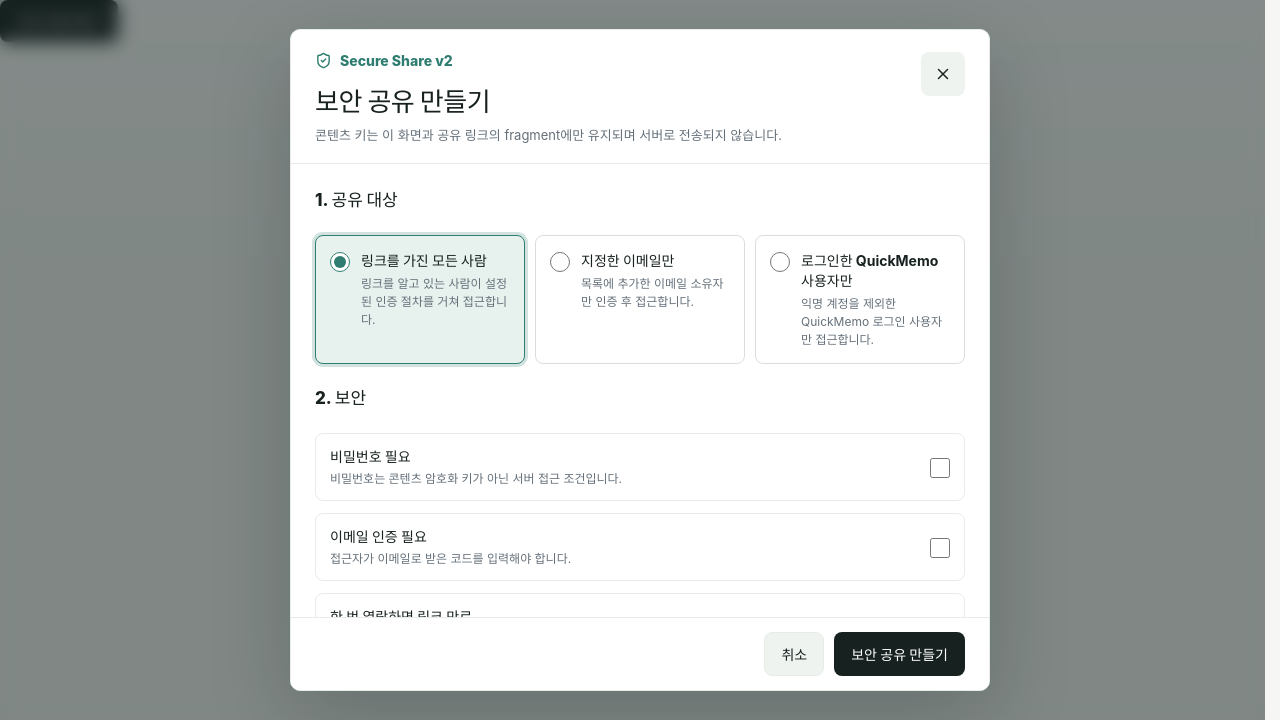
Scenario: SecureShareSettingsModal › hides unknown save internals and moves focus to the failure
Click the button "보안 공유 만들기" at (900, 654), box [834,632,965,676]
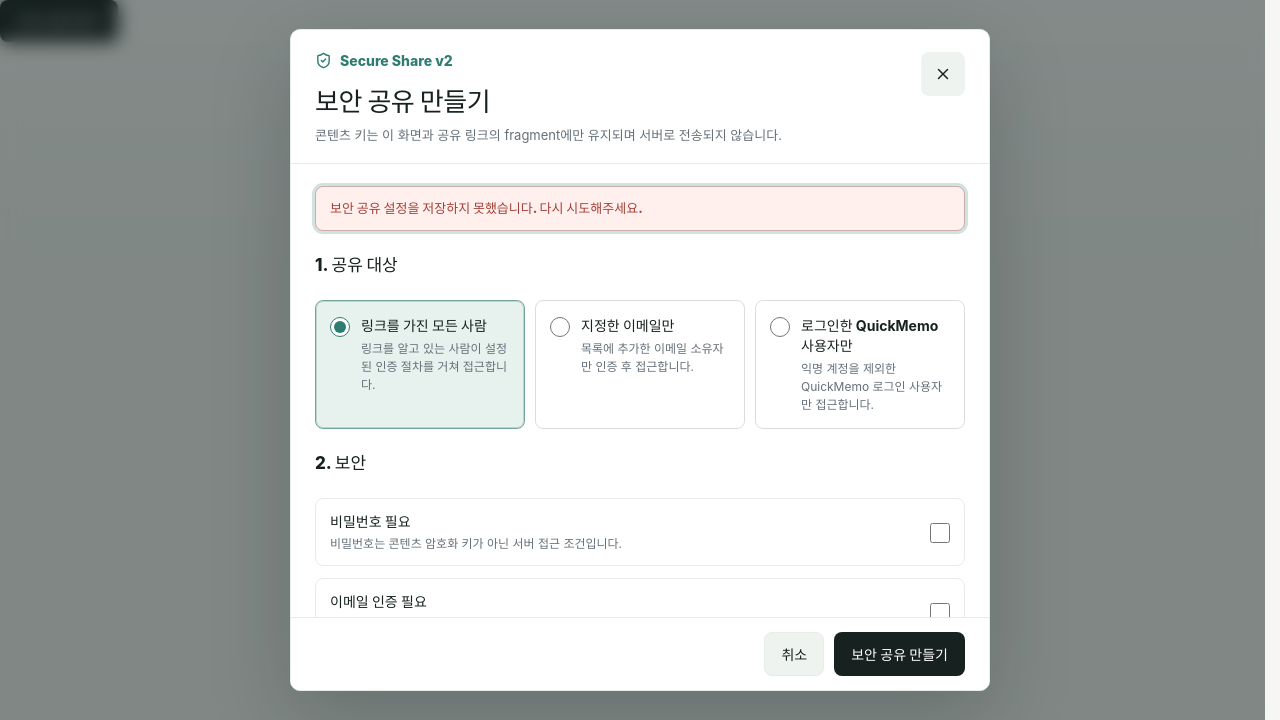
Expected: the message does not show "projects/example", [315,186,965,231]
Now the message reads "보안 공유 설정을 저장하지 못했습니다. 다시 시도해주세요.", box [330,200,643,216]
